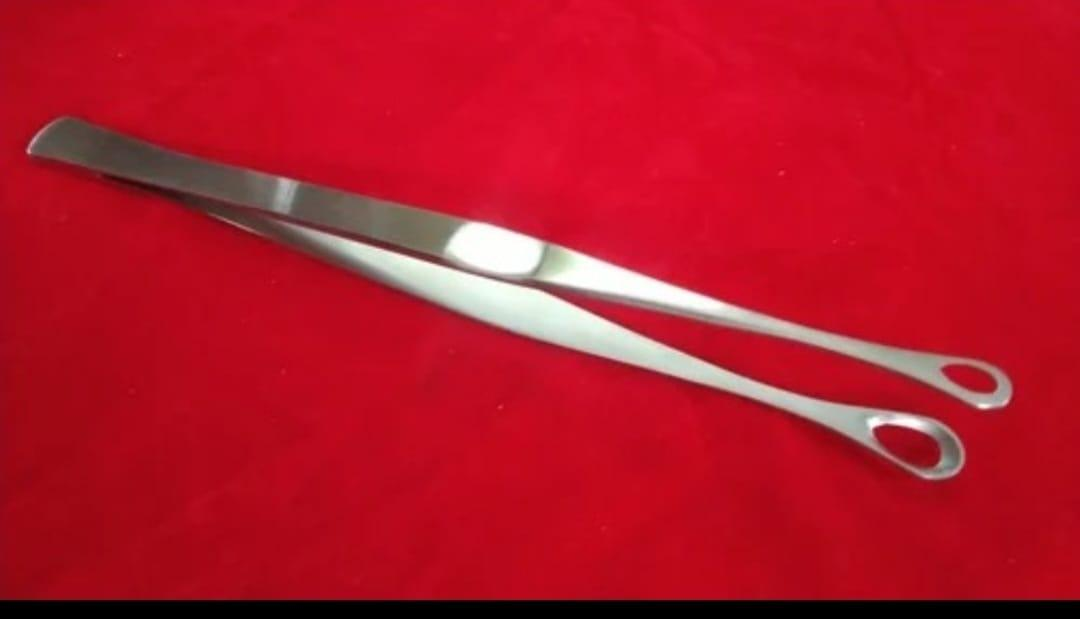Eye Intestinal Forceps: (15, 105, 1014, 496)
